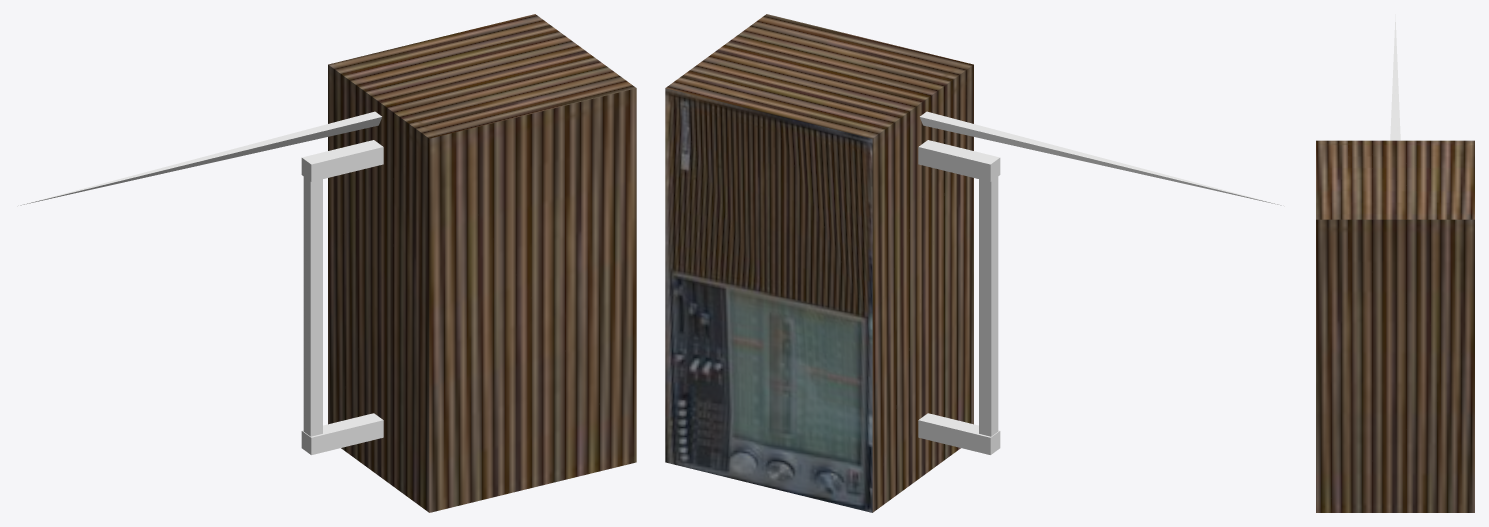
Rendered from Radio.glb.
3 views of the same model, side by side, from view 1: azimuth 30°, elevation 25°; view 2: azimuth 150°, elevation 25°; view 3: azimuth 270°, elevation 25° (orthographic). The views are drawn at different scales.
Visible parts, largest first — view 1: Radio; view 2: Radio; view 3: Radio.
Part boxes in pixels (x1=…): Radio: x1=17, y1=14, x2=636, y2=512; Radio: x1=665, y1=14, x2=1284, y2=512; Radio: x1=1316, y1=14, x2=1474, y2=512.
Bounding box in the file's own units: 1.02 × 0.6374 × 0.313.
2 materials, 1 textured.
